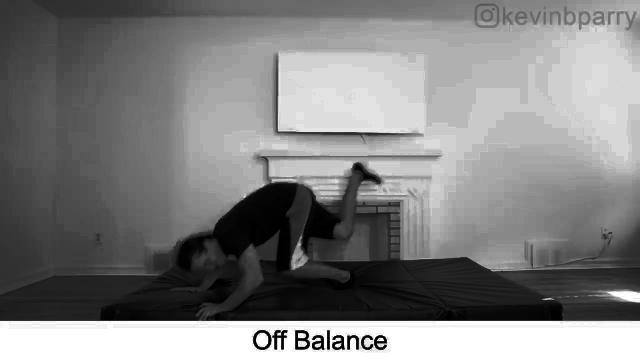jatuh: (155, 158, 379, 316)
